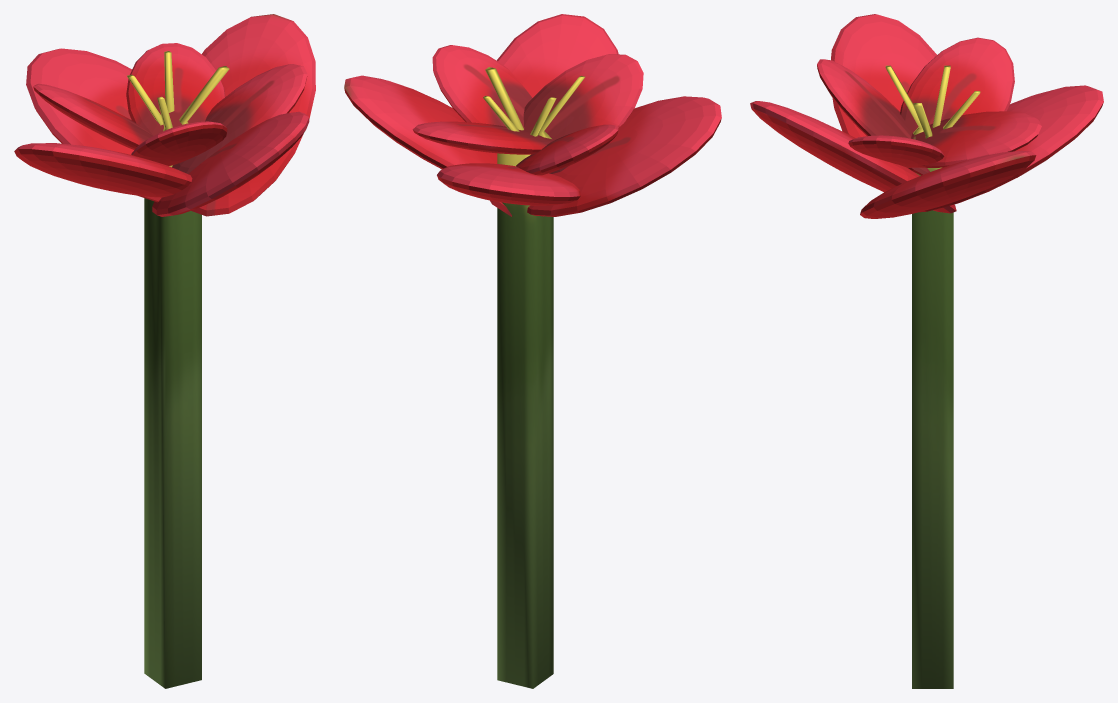
Rendered from Flower.fbx.
3 renders of one model, left to right at view 1: azimuth 30°, elevation 25°; view 2: azimuth 150°, elevation 25°; view 3: azimuth 270°, elevation 25°, orthographic.
Visible parts, largest first — view 1: FlowerTop, FlowerStem; view 2: FlowerTop, FlowerStem; view 3: FlowerTop, FlowerStem.
Part boxes in pixels (x1,y1,x2,y2): FlowerTop: (14,14,315,216); FlowerStem: (127,51,229,688); FlowerTop: (344,14,721,216); FlowerStem: (483,67,585,688); FlowerTop: (750,14,1103,218); FlowerStem: (885,65,980,688).
Bounding box in the file's own units: 53.29 × 94.11 × 50.61.
